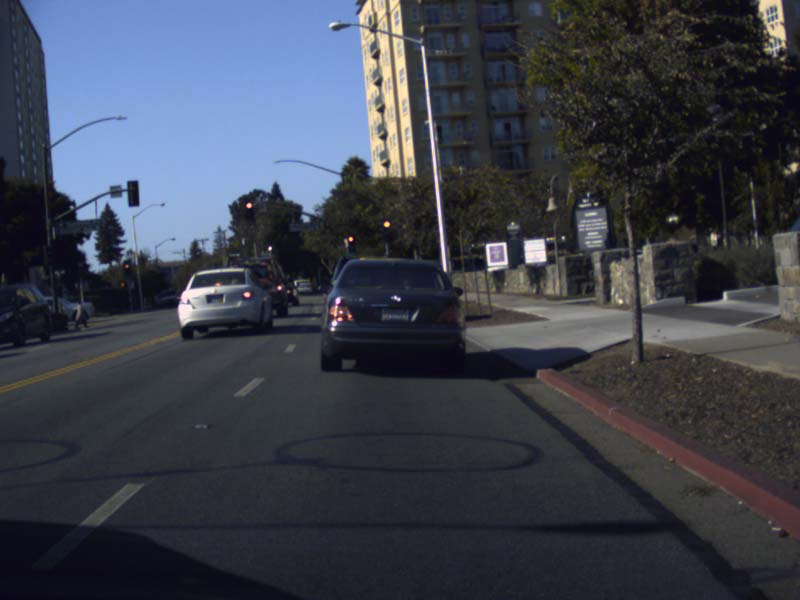Red: (381, 218, 391, 241), (244, 200, 252, 220), (347, 234, 355, 252), (123, 260, 131, 276)
